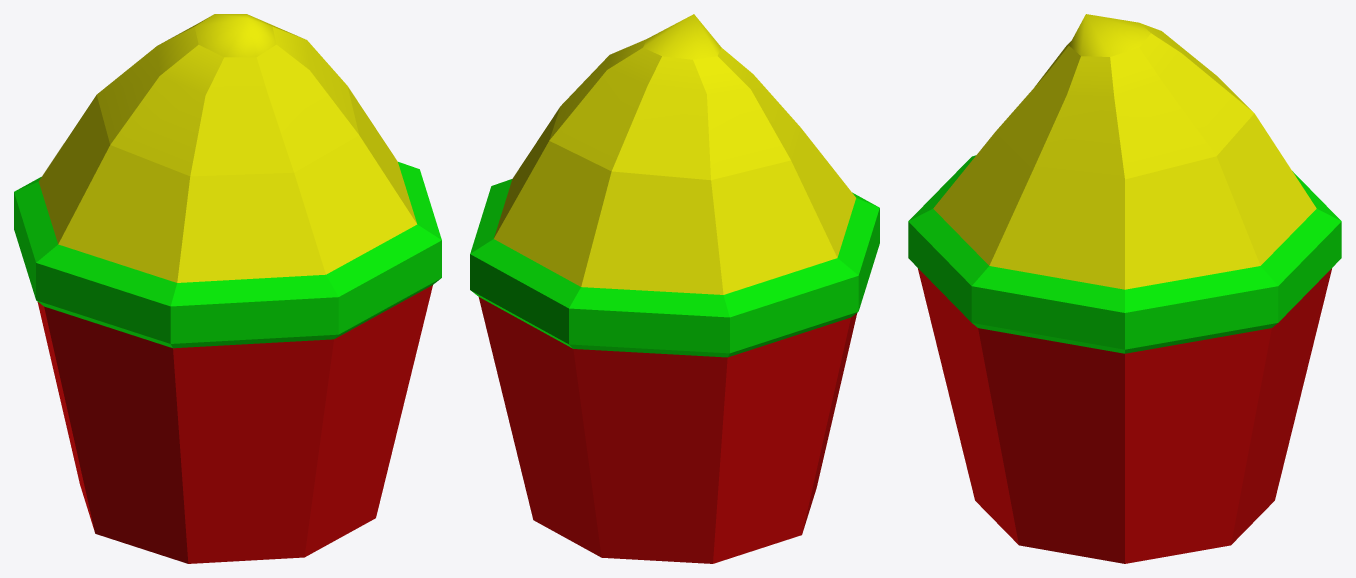
Rendered from Aufbewahrungskiste_3_low.fbx.
3 renders of one model, left to right at view 1: azimuth 30°, elevation 25°; view 2: azimuth 150°, elevation 25°; view 3: azimuth 270°, elevation 25°, orthographic. The views are drawn at different scales.
Parts seen in each view (by area): view 1: Aufbewahrungskiste_3_low; view 2: Aufbewahrungskiste_3_low; view 3: Aufbewahrungskiste_3_low.
Part boxes in pixels (<box>): Aufbewahrungskiste_3_low: <box>14,14,441,563</box>; Aufbewahrungskiste_3_low: <box>470,14,879,563</box>; Aufbewahrungskiste_3_low: <box>908,14,1341,563</box>.
Bounding box in the file's own units: 0.8515 × 1.05 × 0.8515.
